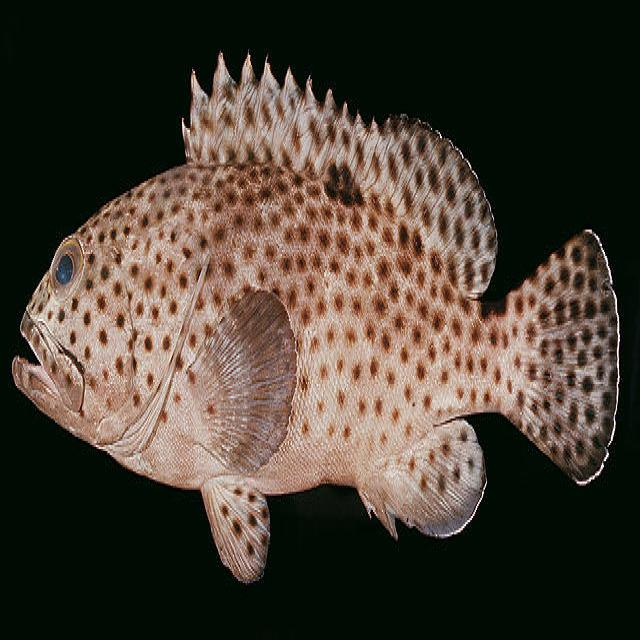ikan: (11, 47, 620, 585)
